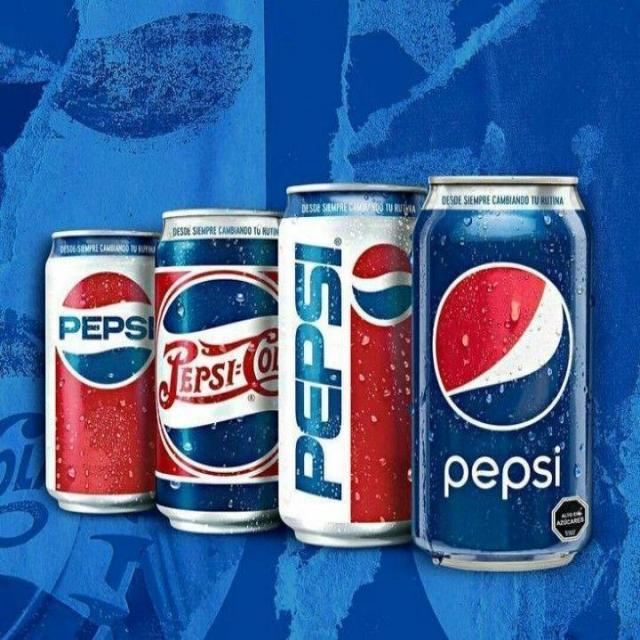tin can: (414, 170, 587, 574), (276, 178, 420, 550), (153, 201, 283, 539), (40, 222, 158, 518)
